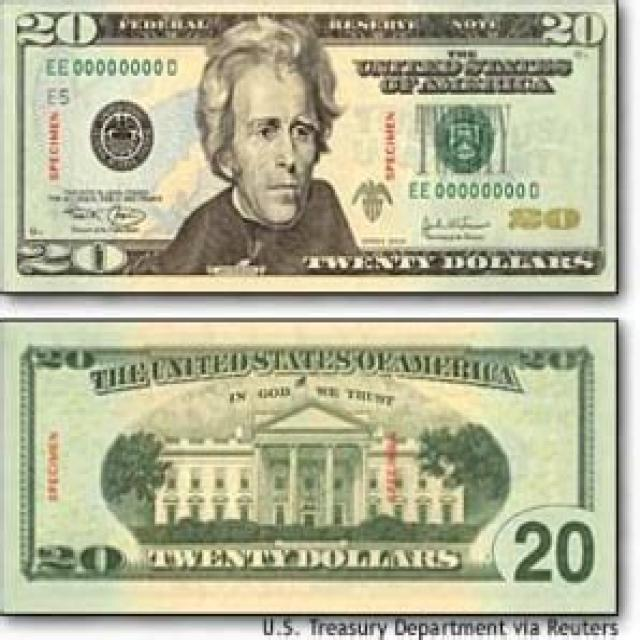Twenty: (0, 0, 621, 293), (0, 320, 617, 614)
